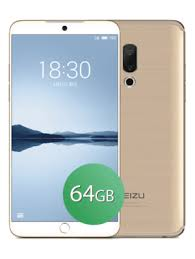meizu: (5, 16, 121, 239), (116, 16, 188, 238)
